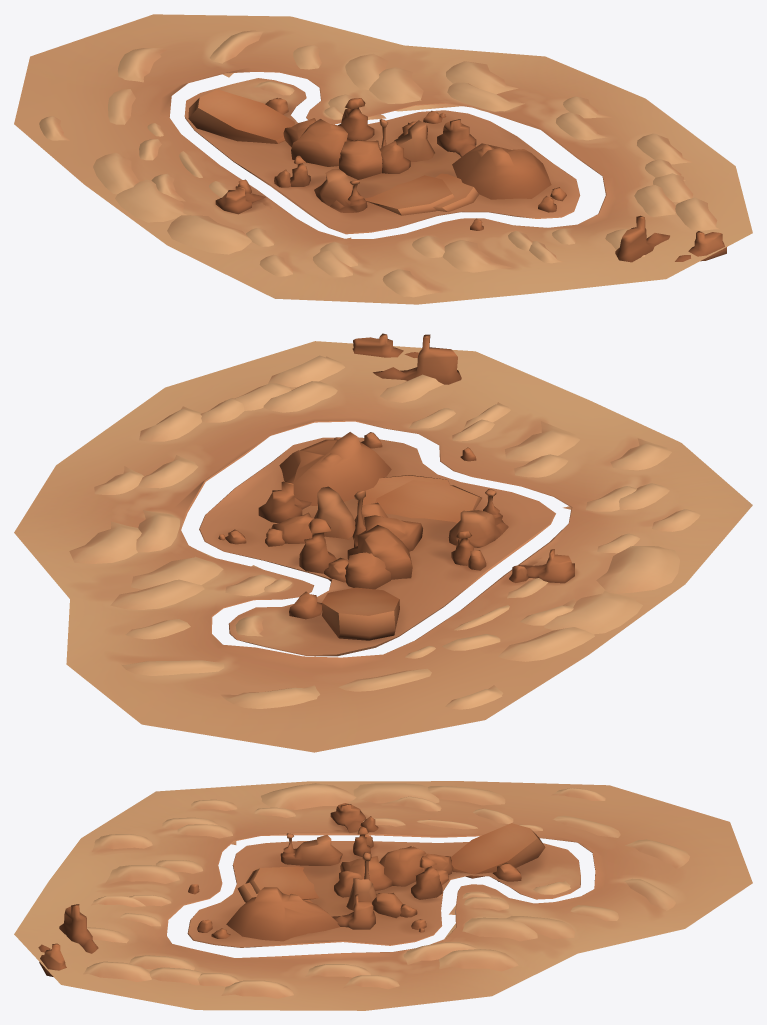
File: Map.fbx
The picture shows the model from 3 angles, top to bottom: view 1: azimuth 30°, elevation 25°; view 2: azimuth 150°, elevation 25°; view 3: azimuth 270°, elevation 25°; orthographic projection. The views are drawn at different scales.
Parts seen in each view (by area): view 1: Map_Ground_GEO; view 2: Map_Ground_GEO; view 3: Map_Ground_GEO.
Boxes of the visible parts, left/top/right/bottom form: Map_Ground_GEO: left=14, top=14, right=752, bottom=304; Map_Ground_GEO: left=14, top=333, right=752, bottom=752; Map_Ground_GEO: left=14, top=781, right=752, bottom=1010.
Bounding box in the file's own units: 3522 × 387 × 4787.
Materials: 1 (1 with a texture image).
